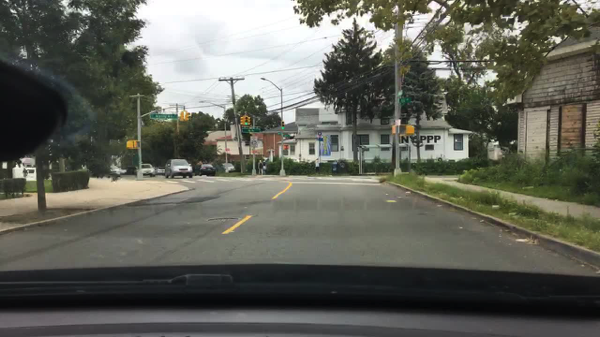car: (164, 160, 193, 178), (194, 163, 214, 176), (141, 163, 153, 179), (220, 162, 235, 172), (126, 167, 138, 174), (155, 167, 164, 175)
person: (257, 159, 263, 174), (263, 160, 268, 174)
traffic light: (126, 140, 133, 149), (405, 126, 413, 133), (185, 112, 191, 121), (391, 125, 396, 135), (134, 140, 140, 148), (248, 116, 253, 125), (240, 115, 244, 125), (243, 115, 247, 125), (281, 121, 285, 131), (181, 111, 184, 122)
traffic sign: (149, 114, 180, 119), (316, 128, 324, 143), (250, 136, 257, 147), (242, 128, 261, 132), (399, 97, 410, 103), (397, 90, 402, 99), (275, 131, 281, 136), (283, 134, 289, 138)
